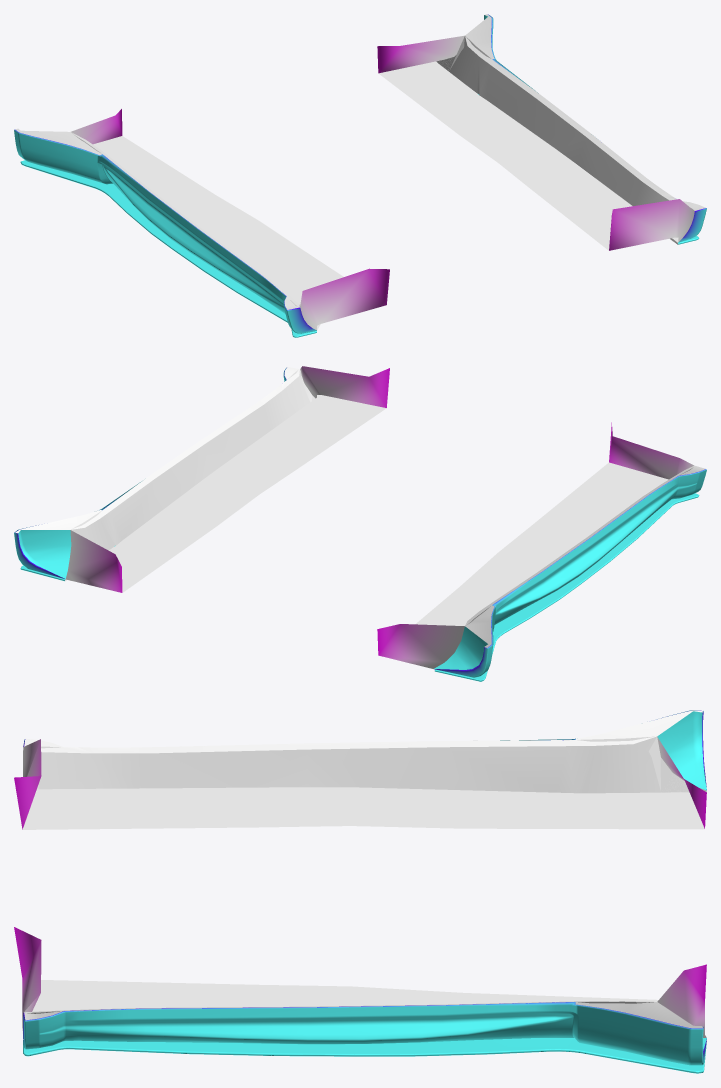
File: Car_Mini_CountrymanJCW_2017_Skirts_SetD_AltD.fbx
3 renders of one model, top to bottom at view 1: azimuth 30°, elevation 25°; view 2: azimuth 150°, elevation 25°; view 3: azimuth 270°, elevation 25°, orthographic. The views are drawn at different scales.
Parts seen in each view (by area): view 1: Skirts 6; view 2: Skirts 6; view 3: Skirts 6.
Part boxes in pixels (x1,y1,x2,y2): Skirts 6: [14, 14, 706, 337]; Skirts 6: [14, 366, 706, 681]; Skirts 6: [14, 710, 706, 1073].
Size of the model in its own units: 2.07 by 0.2059 by 1.9.
